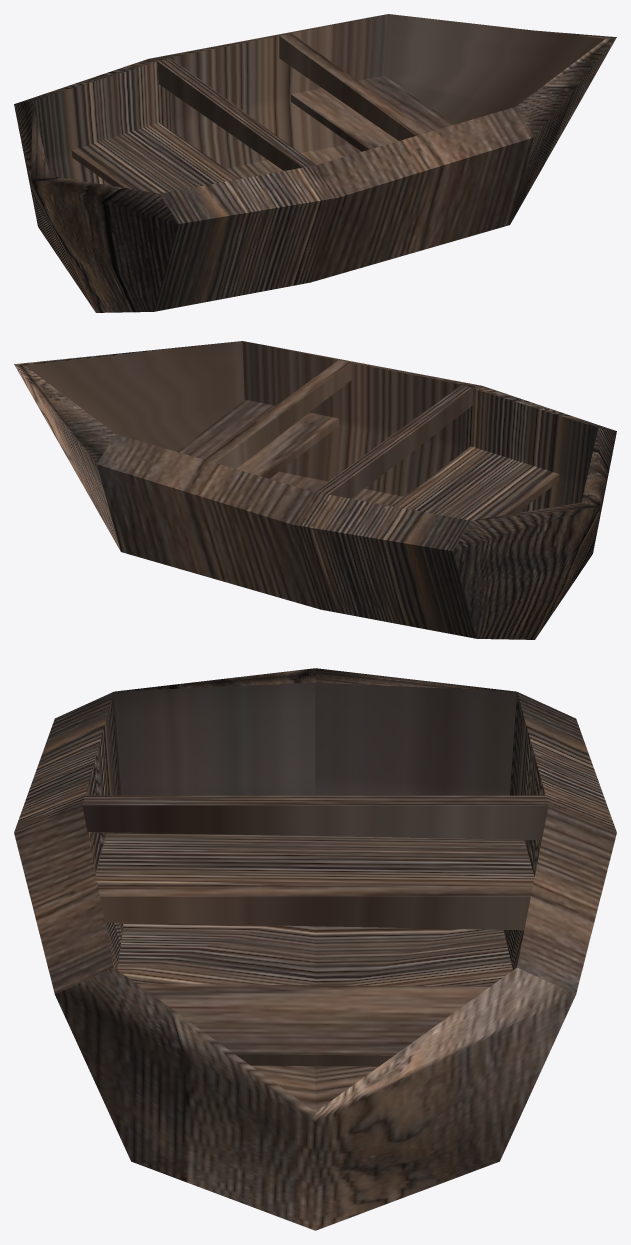
The model's file is Boat.fbx.
3 renders of one model, top to bottom at view 1: azimuth 30°, elevation 25°; view 2: azimuth 150°, elevation 25°; view 3: azimuth 270°, elevation 25°, orthographic. The views are drawn at different scales.
Visible parts, largest first — view 1: pPrism1; view 2: pPrism1; view 3: pPrism1.
Part boxes in pixels (x1=…): pPrism1: x1=14, y1=14, x2=616, y2=312; pPrism1: x1=14, y1=341, x2=616, y2=639; pPrism1: x1=14, y1=668, x2=616, y2=1230.
Bounding box in the file's own units: 5.39 × 1.46 × 3.02.
Materials: 1 (1 with a texture image).
